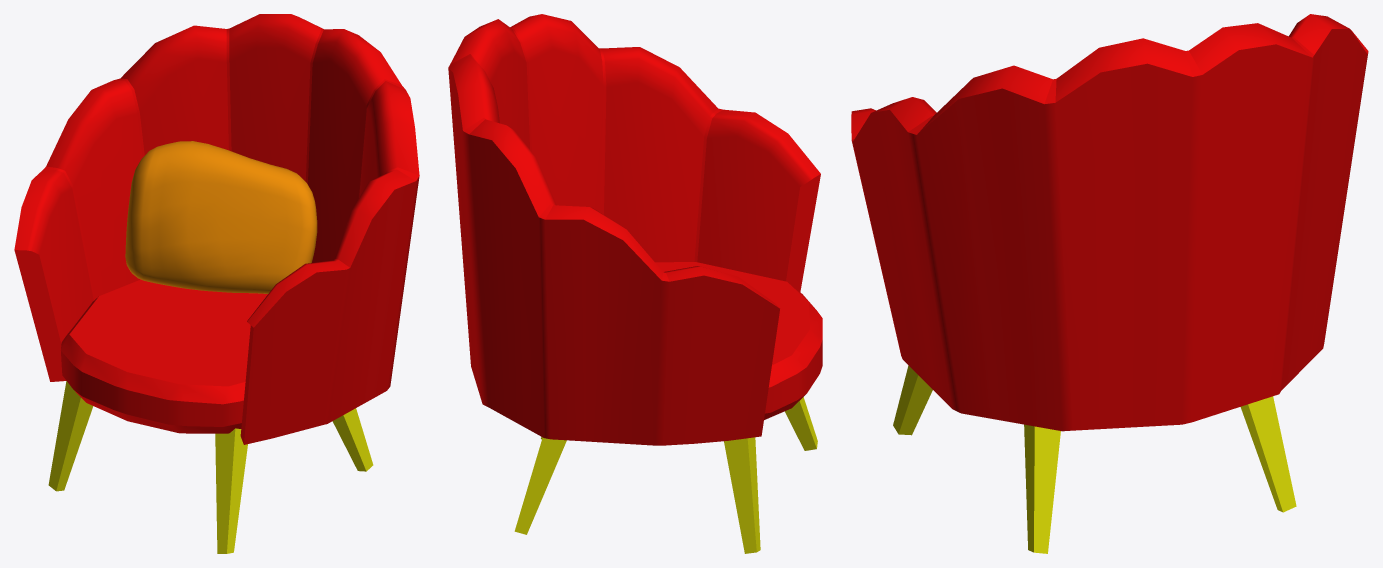
The model's file is LR_Armchair_1.fbx.
3 renders of one model, left to right at view 1: azimuth 30°, elevation 25°; view 2: azimuth 150°, elevation 25°; view 3: azimuth 270°, elevation 25°, orthographic. The views are drawn at different scales.
Parts seen in each view (by area): view 1: LR_Armchair_1; view 2: LR_Armchair_1; view 3: LR_Armchair_1.
Part boxes in pixels (left/top/right/bottom): LR_Armchair_1: left=14, top=14, right=419, bottom=553; LR_Armchair_1: left=448, top=14, right=822, bottom=553; LR_Armchair_1: left=851, top=14, right=1368, bottom=553.
Size of the model in its own units: 131 by 157 by 138.
